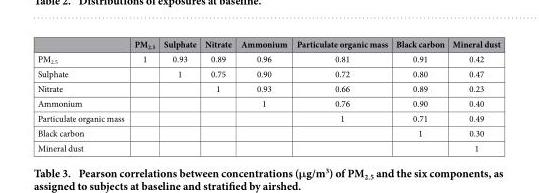table: (36, 37, 499, 153)
table column: (291, 37, 391, 153), (36, 37, 128, 153), (235, 37, 291, 153), (391, 37, 447, 153), (447, 37, 499, 153), (158, 37, 199, 153), (199, 37, 235, 153), (128, 37, 158, 153)
table column header: (36, 37, 499, 51)
table row: (36, 51, 499, 66), (36, 80, 499, 95), (36, 95, 499, 110), (36, 110, 499, 125), (36, 125, 499, 140), (36, 37, 499, 51), (36, 66, 499, 80), (36, 140, 499, 153)
